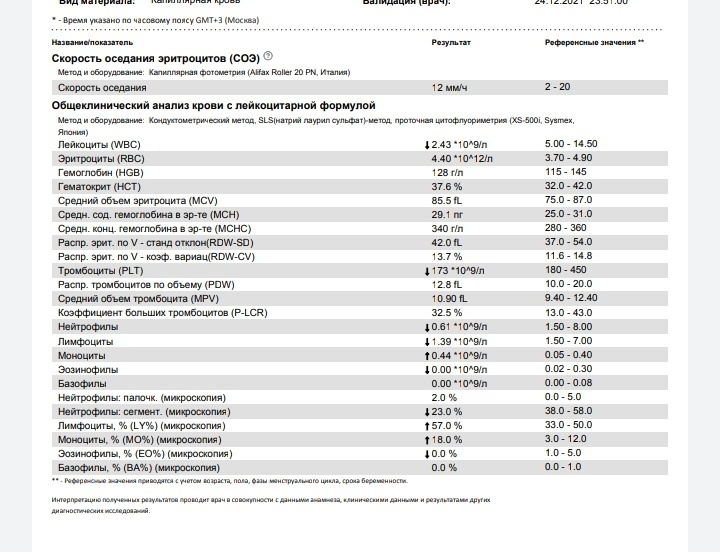column: (56, 138, 267, 473), (431, 138, 493, 473), (543, 138, 598, 473), (57, 81, 146, 93), (544, 38, 636, 47), (51, 38, 133, 47), (431, 81, 467, 93), (431, 38, 471, 47), (544, 81, 571, 93)
